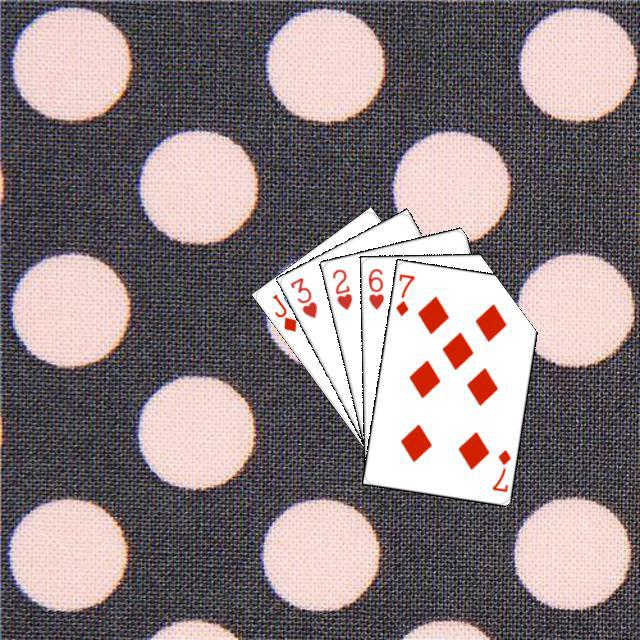2h: (327, 264, 354, 311)
3h: (285, 272, 319, 320)
6h: (363, 263, 385, 311)
7d: (487, 445, 513, 493), (391, 269, 416, 318)
Jd: (267, 289, 298, 334)
